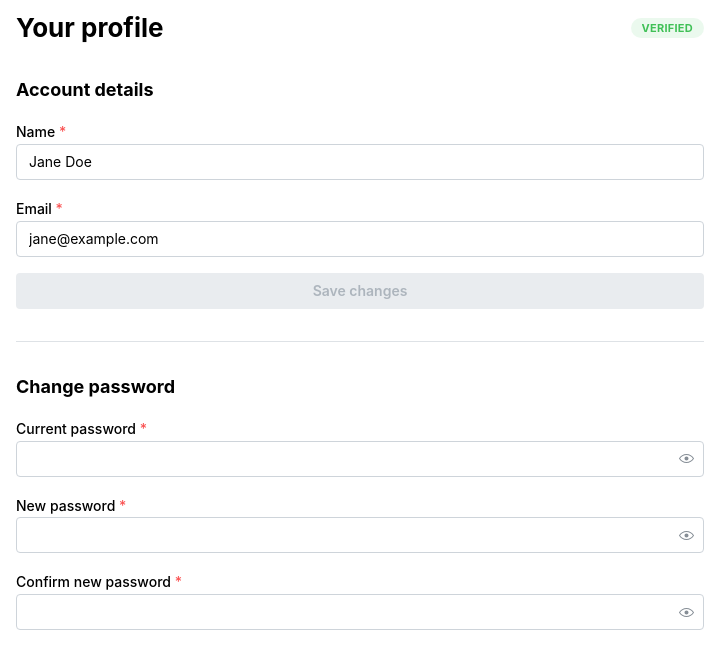
Test: ProfilePage › submits profile updates and shows success
The width and height of the screenshot is (721, 646).
Replace the text in the field labelled "Name *" with "Jane Q. Doe" at (360, 162), box [16,144,704,180]
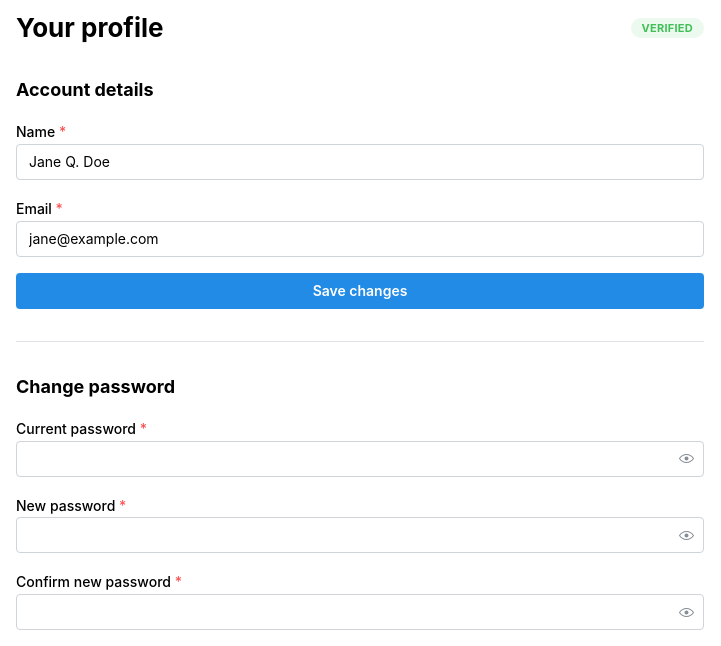
Submit the form "Account details Name * Email * Save changes", box [16,77,704,309]
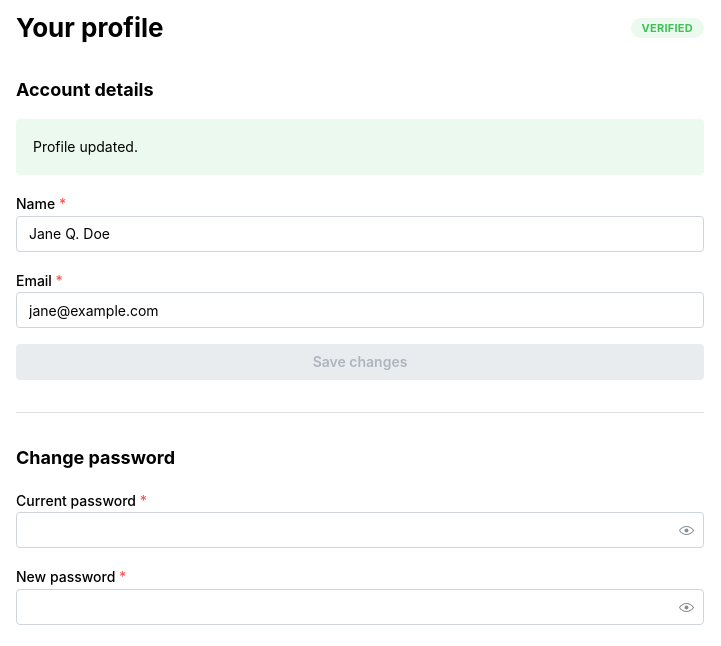
Expected: the text "Profile updated." is shown, [33,138,138,155]
